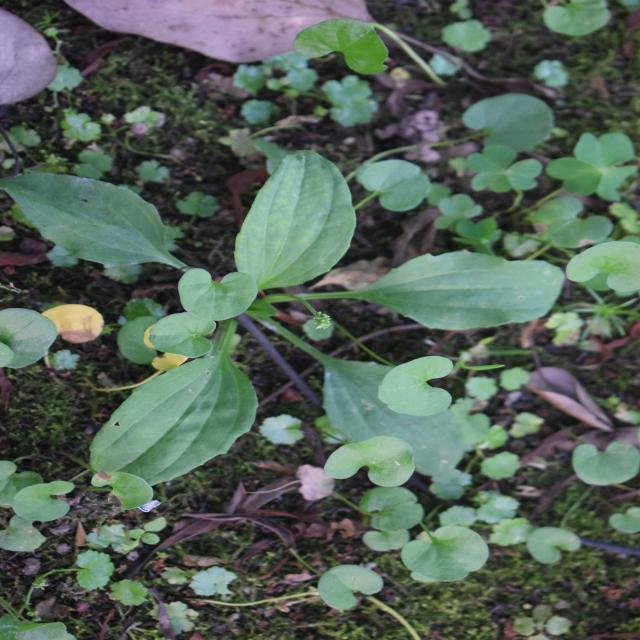plantain: (140, 86, 497, 558)
